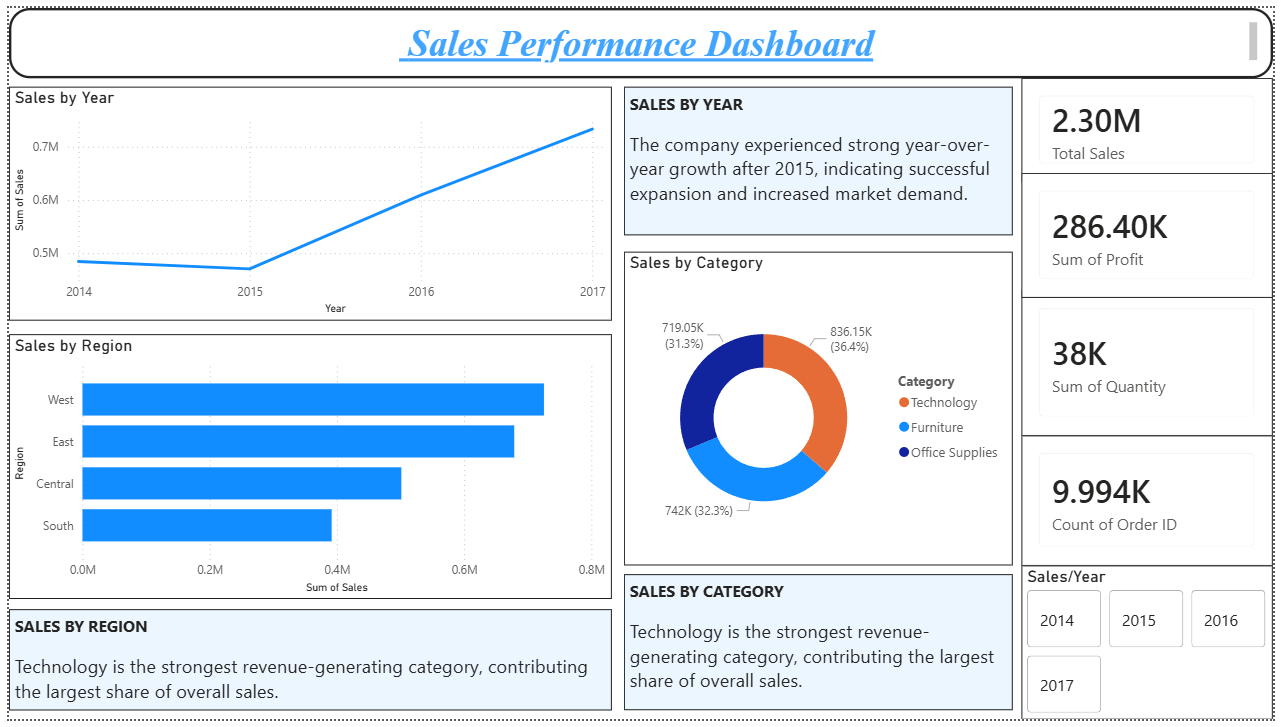

This screenshot's page, from the dashboard's own definition file:
{"tool":"powerbi","page":{"name":"Page 1","canvas":[1280,720],"ordinal":0},"visuals":[{"type":"textbox","box":[0,0,1279.7,70.9],"z":0},{"type":"cardVisual","fields":{"Data":["Sum(Sample - Superstore.Sales)"]},"box":[1025.3,70.9,254.4,105.1],"z":1000},{"type":"cardVisual","fields":{"Data":["Sum(Sample - Superstore.Quantity)"]},"box":[1025.3,286.1,254.4,146.8],"z":2000},{"type":"cardVisual","fields":{"Data":["CountNonNull(Sample - Superstore.Order ID)"]},"box":[1025.3,432.9,254.4,131.6],"z":3000},{"type":"cardVisual","fields":{"Data":["Sum(Sample - Superstore.Profit)"]},"box":[1025.3,167.1,254.4,126.6],"z":4000},{"type":"lineChart","title":"Sales by Year","fields":{"Category":["Sample - Superstore.Order Date.Variation.Date Hierarchy.Year"],"Y":["Sum(Sample - Superstore.Sales)"]},"box":[0,79.7,610.1,236.7],"z":5000},{"type":"advancedSlicerVisual","title":"Sales/Year","fields":{"Values":["Sample - Superstore.Order Date.Variation.Date Hierarchy.Year"]},"box":[1025.3,564.6,254.4,155.7],"z":6000},{"type":"clusteredBarChart","title":"Sales by Region","fields":{"Category":["Sample - Superstore.Region"],"Y":["Sum(Sample - Superstore.Sales)"]},"box":[0,330.4,610.1,268.4],"z":6001},{"type":"donutChart","title":"Sales by Category","fields":{"Category":["Sample - Superstore.Category"],"Y":["Sum(Sample - Superstore.Sales)"]},"box":[622.8,246.8,393.7,317.7],"z":6002},{"type":"textbox","box":[622.8,79.7,393.7,150.6],"z":6003},{"type":"textbox","box":[0,608.9,610.1,102.5],"z":6004},{"type":"textbox","box":[622.8,573.4,393.7,138],"z":6005}]}

Visuals, with their boxes in screenshot pixels (x1, y1, x2, y2), scaled from the page's 1280x720 canvas onto the 1281x727 screenshot:
textbox: <box>0,0,1280,72</box>
cardVisual - Sum(Sample - Superstore.Sales): <box>1026,72,1280,178</box>
cardVisual - Sum(Sample - Superstore.Quantity): <box>1026,289,1280,437</box>
cardVisual - CountNonNull(Sample - Superstore.Order ID): <box>1026,437,1280,570</box>
cardVisual - Sum(Sample - Superstore.Profit): <box>1026,169,1280,297</box>
"Sales by Year" lineChart: <box>0,80,611,319</box>
"Sales/Year" advancedSlicerVisual: <box>1026,570,1280,726</box>
"Sales by Region" clusteredBarChart: <box>0,334,611,605</box>
"Sales by Category" donutChart: <box>623,249,1017,570</box>
textbox: <box>623,80,1017,233</box>
textbox: <box>0,615,611,718</box>
textbox: <box>623,579,1017,718</box>
